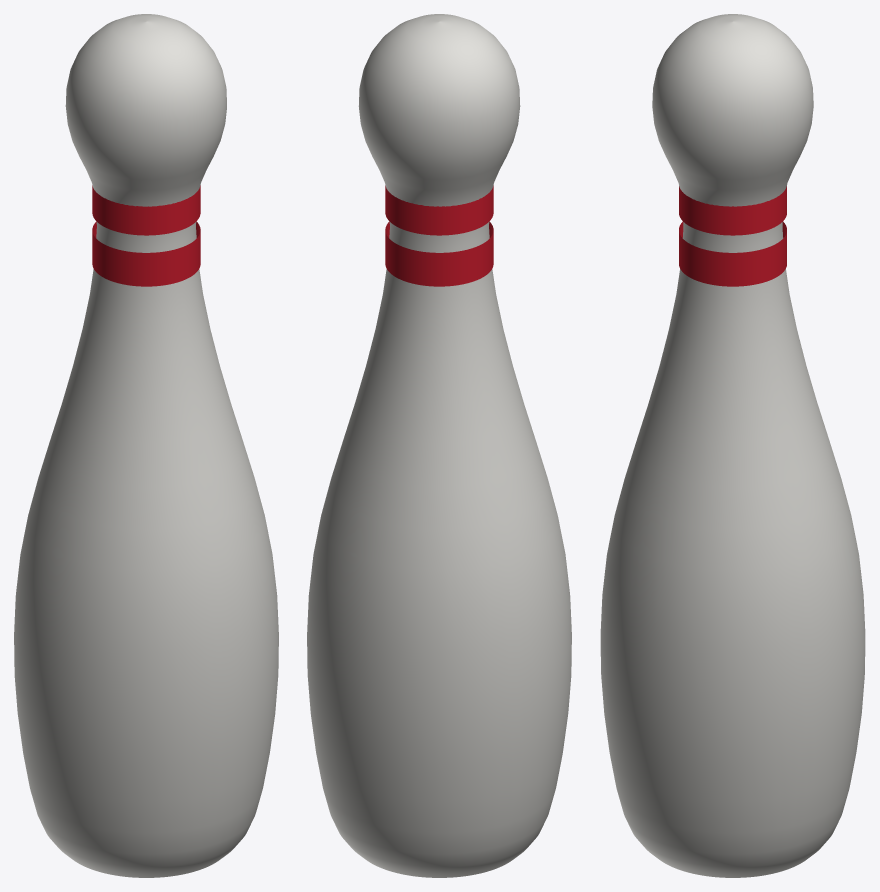
The model's file is neon-competition-pin.glb.
3 views of the same model, side by side, from view 1: azimuth 30°, elevation 25°; view 2: azimuth 150°, elevation 25°; view 3: azimuth 270°, elevation 25° (orthographic).
Parts seen in each view (by area): view 1: PinBody; view 2: PinBody; view 3: PinBody.
Part boxes in pixels (x1,y1,x2,y2): PinBody: (14,14,278,877); PinBody: (307,14,571,877); PinBody: (600,14,865,877).
Size of the model in its own units: 0.235 by 0.803 by 0.235.
